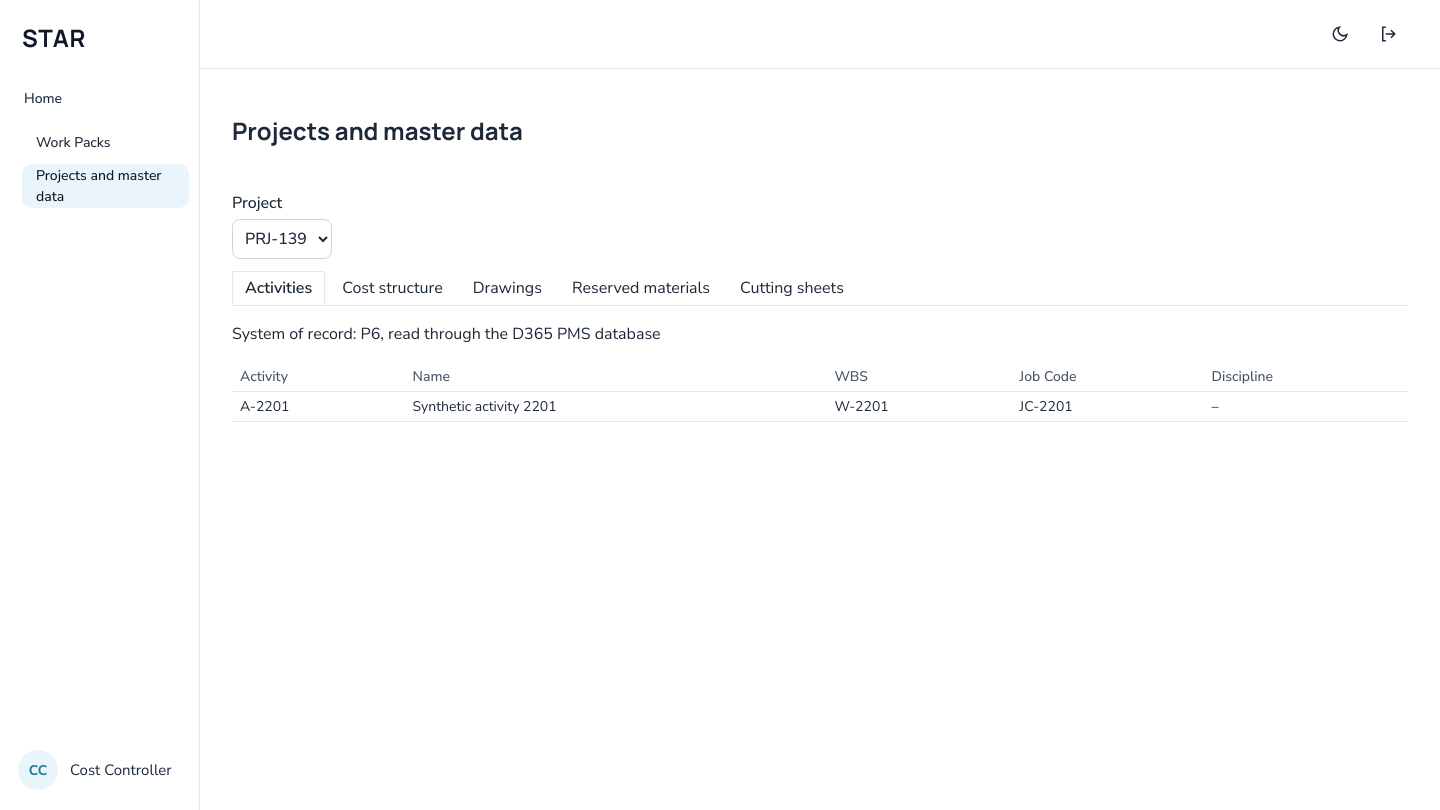
Test: ProjectsPage › aProjectWithNoRowsInATabSaysSo
The width and height of the screenshot is (1440, 810).
What coordinates should you click on to do the following:
click the tab "Cost structure"
I would click on:
 (392, 288)
Its box is [329,271,456,305].
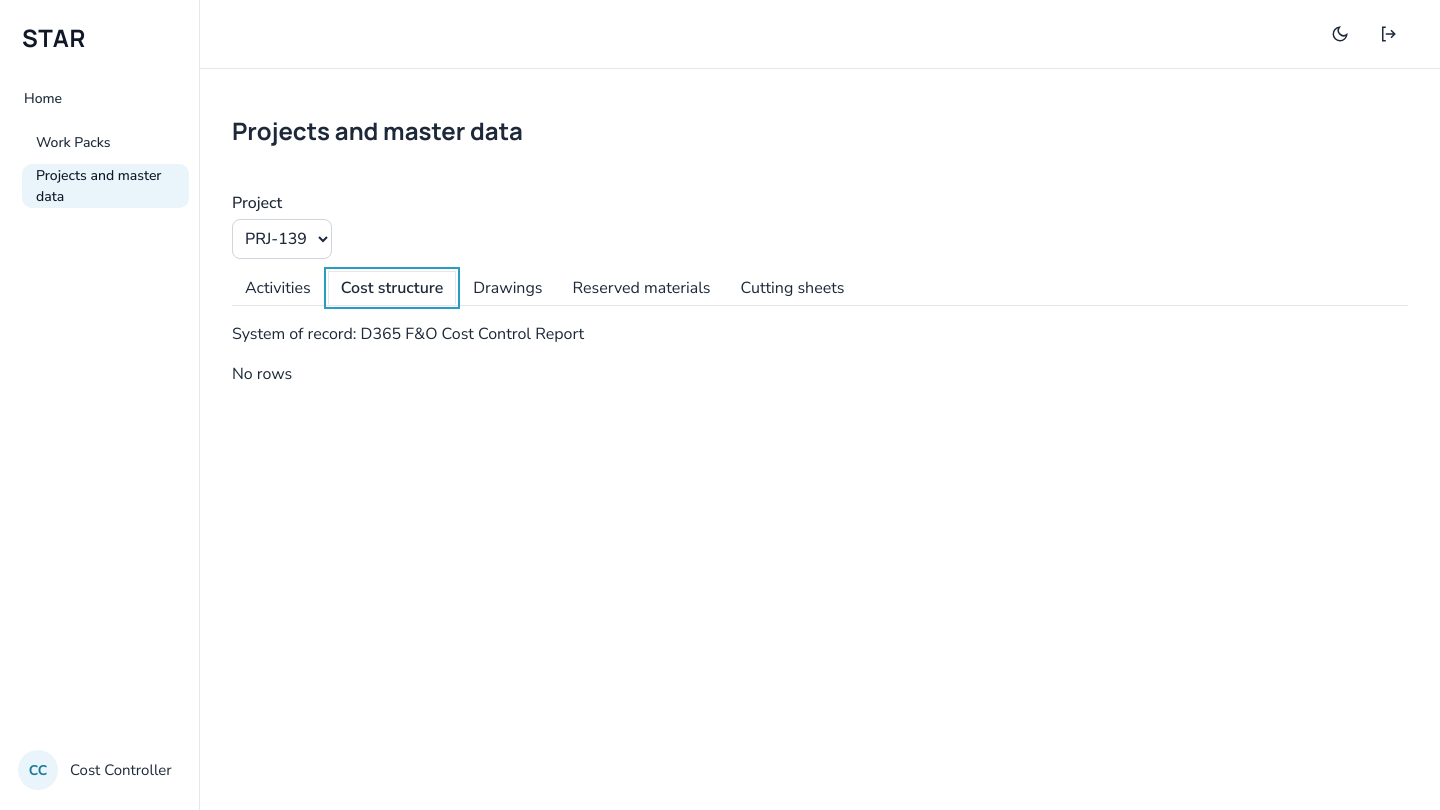
Check: the panel shows "No rows", box [232,363,292,385]
Check: the panel shows "System of record: D365 F&O Cost Control Report", box [232,323,584,385]
